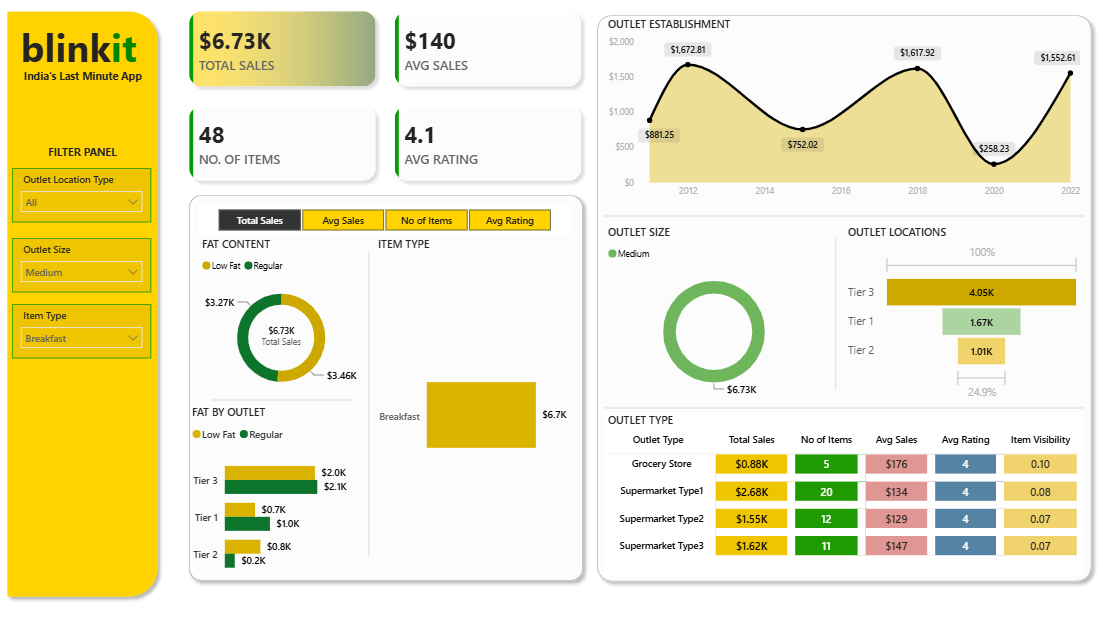

The dashboard page shown, as its layout file describes it:
{"tool":"powerbi","page":{"name":"Page 1","canvas":[1400,800],"ordinal":0},"visuals":[{"type":"shape","box":[10,20,206,750],"z":0},{"type":"textbox","box":[18,36,182,76],"z":1000},{"type":"textbox","box":[28,96,172,30],"z":2000},{"type":"cardVisual","fields":{"Data":["BlinkIT Grocery Data.Total Sales","BlinkIT Grocery Data.Avg Sales","BlinkIT Grocery Data.No of Items","BlinkIT Grocery Data.Avg Rating"]},"box":[218,0,548,270],"z":3000},{"type":"shape","box":[237.5,250,510,500],"z":4000},{"type":"donutChart","title":"FAT CONTENT","fields":{"Y":["BlinkIT Grocery Data.Total Sales"],"Category":["BlinkIT Grocery Data.Item Fat Content"]},"box":[258,310,208,210],"z":5000},{"type":"slicer","fields":{"Values":["Metrics.Metrics"]},"box":[258.3,270,465,40],"z":6000},{"type":"cardVisual","fields":{"Data":["BlinkIT Grocery Data.Total Sales"]},"box":[332,416,124,54],"z":7000},{"type":"clusteredBarChart","title":"FAT BY OUTLET","fields":{"Y":["BlinkIT Grocery Data.Total Sales"],"Category":["BlinkIT Grocery Data.Outlet Location Type"],"Series":["BlinkIT Grocery Data.Item Fat Content"]},"box":[246,520,220,230],"z":8000},{"type":"shape","box":[274,510,174,10],"z":9000},{"type":"shape","box":[466,330,12,380],"z":10000},{"type":"barChart","title":"ITEM TYPE","fields":{"Y":["BlinkIT Grocery Data.Total Sales"],"Category":["BlinkIT Grocery Data.Item Type"]},"box":[478,310,246,426],"z":11000},{"type":"shape","box":[748,24,636,726],"z":12000},{"type":"lineChart","title":"OUTLET ESTABLISHMENT","fields":{"Y":["BlinkIT Grocery Data.Total Sales"],"Category":["BlinkIT Grocery Data.Outlet Establishment Year"]},"box":[766,36,600,236],"z":13000},{"type":"shape","box":[766,280,600,10],"z":14000},{"type":"donutChart","title":"OUTLET SIZE","fields":{"Y":["BlinkIT Grocery Data.Total Sales"],"Category":["BlinkIT Grocery Data.Outlet Size"]},"box":[766,294,275,225],"z":15000},{"type":"shape","box":[1042,312,24,190],"z":16000},{"type":"funnel","title":"OUTLET LOCATIONS","fields":{"Y":["Sum(BlinkIT Grocery Data.Sales)"],"Category":["BlinkIT Grocery Data.Outlet Location Type"]},"box":[1066,294,300,226],"z":17000},{"type":"shape","box":[766,520,600,10],"z":18000},{"type":"pivotTable","title":"OUTLET TYPE","fields":{"Rows":["BlinkIT Grocery Data.Outlet Type"],"Values":["BlinkIT Grocery Data.Total Sales","BlinkIT Grocery Data.No of Items","BlinkIT Grocery Data.Avg Sales","BlinkIT Grocery Data.Avg Rating","Avg(BlinkIT Grocery Data.Item Visibility)"]},"box":[766,530,600,206],"z":19000},{"type":"slicer","fields":{"Values":["BlinkIT Grocery Data.Outlet Location Type"]},"box":[26,226,174,68],"z":20000},{"type":"slicer","fields":{"Values":["BlinkIT Grocery Data.Outlet Size"]},"box":[26,312,174,68],"z":21000},{"type":"slicer","fields":{"Values":["BlinkIT Grocery Data.Item Type"]},"box":[26,396,174,68],"z":22000},{"type":"textbox","box":[56,190,116,36],"z":22001}]}

Visuals, with their boxes in screenshot pixels (x1, y1, x2, y2), scaled from the page's 1400x800 canvas onto the 1103x618 screenshot:
shape: <region>8, 15, 170, 595</region>
textbox: <region>14, 28, 158, 87</region>
textbox: <region>22, 74, 158, 97</region>
cardVisual - BlinkIT Grocery Data.Total Sales x BlinkIT Grocery Data.Avg Sales: <region>172, 0, 603, 209</region>
shape: <region>187, 193, 589, 579</region>
"FAT CONTENT" donutChart: <region>203, 239, 367, 402</region>
slicer - Metrics.Metrics: <region>204, 209, 570, 239</region>
cardVisual - BlinkIT Grocery Data.Total Sales: <region>262, 321, 359, 363</region>
"FAT BY OUTLET" clusteredBarChart: <region>194, 402, 367, 579</region>
shape: <region>216, 394, 353, 402</region>
shape: <region>367, 255, 377, 548</region>
"ITEM TYPE" barChart: <region>377, 239, 570, 569</region>
shape: <region>589, 19, 1090, 579</region>
"OUTLET ESTABLISHMENT" lineChart: <region>603, 28, 1076, 210</region>
shape: <region>603, 216, 1076, 224</region>
"OUTLET SIZE" donutChart: <region>603, 227, 820, 401</region>
shape: <region>821, 241, 840, 388</region>
"OUTLET LOCATIONS" funnel: <region>840, 227, 1076, 402</region>
shape: <region>603, 402, 1076, 409</region>
"OUTLET TYPE" pivotTable: <region>603, 409, 1076, 569</region>
slicer - BlinkIT Grocery Data.Outlet Location Type: <region>20, 175, 158, 227</region>
slicer - BlinkIT Grocery Data.Outlet Size: <region>20, 241, 158, 294</region>
slicer - BlinkIT Grocery Data.Item Type: <region>20, 306, 158, 358</region>
textbox: <region>44, 147, 136, 175</region>
